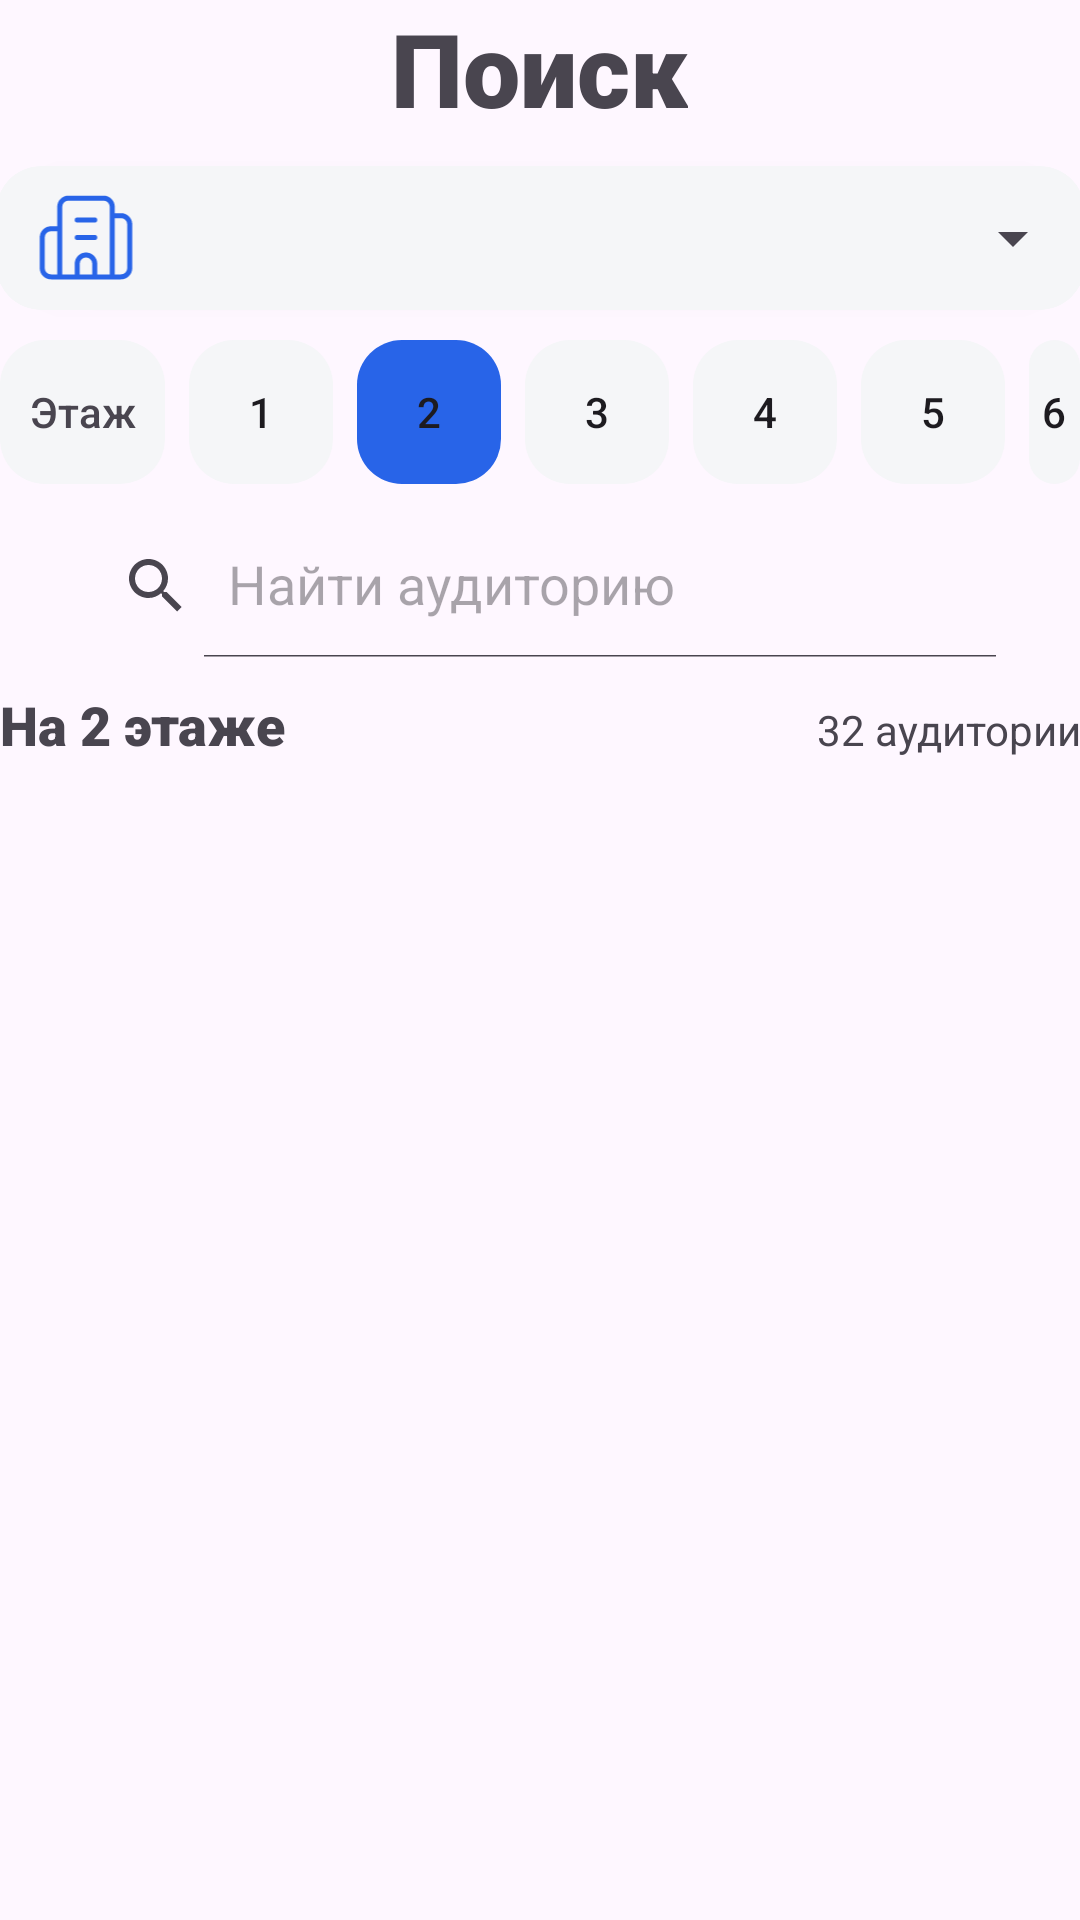

Named icons in this screenshot (1080 × 1920) and their bounding boxes, (x1, y1, x2, y2):
building: (39, 195, 133, 280)
